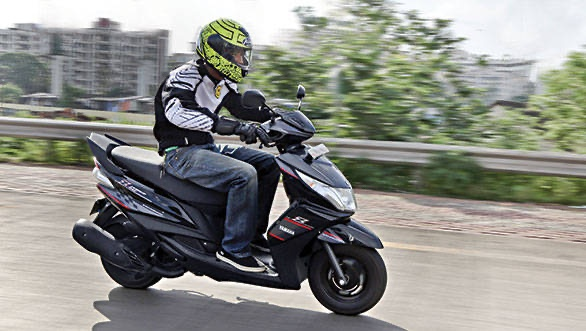helmet: (194, 12, 258, 92)
